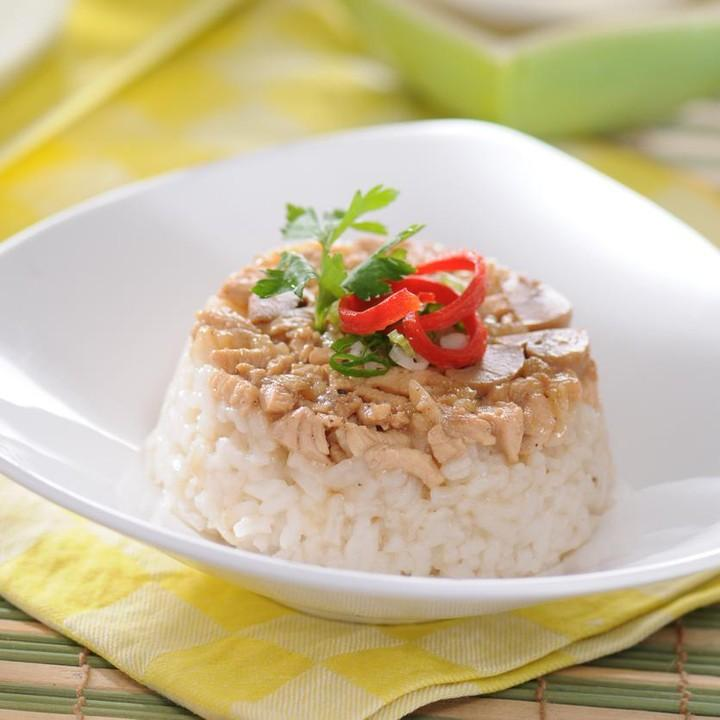daging: (332, 383, 555, 442)
makanan_berpati: (244, 471, 587, 551)
